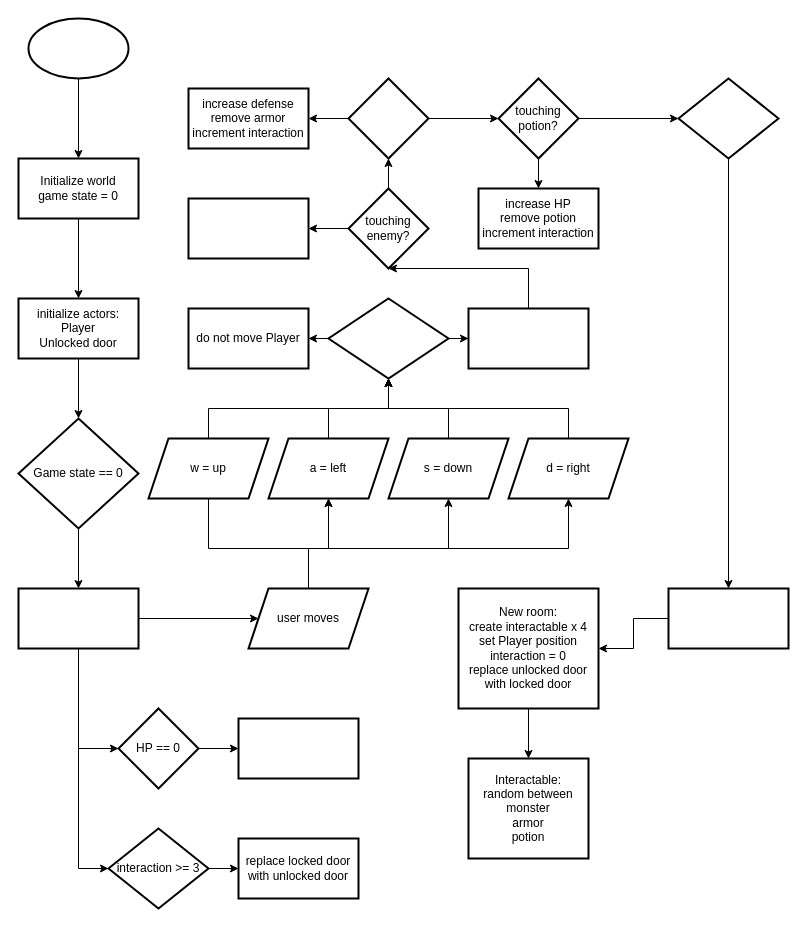
This 806x926 diagram has some shape labels left out. Each missing label, with the centre of its shape:
"decrease HP decrement defense remove enemy increment interaction" goes at (248,228).
"frame x" goes at (78,618).
"Game state = 1 display game over display score display room #" goes at (298,748).
"generate next room increment room #" goes at (728,618).
"is world border in direction?" goes at (388,338).
"move Player" goes at (528,338).
"Start program" goes at (78,48).
"touching armor?" goes at (388,118).
"touching unlocked door?" goes at (728,118).
